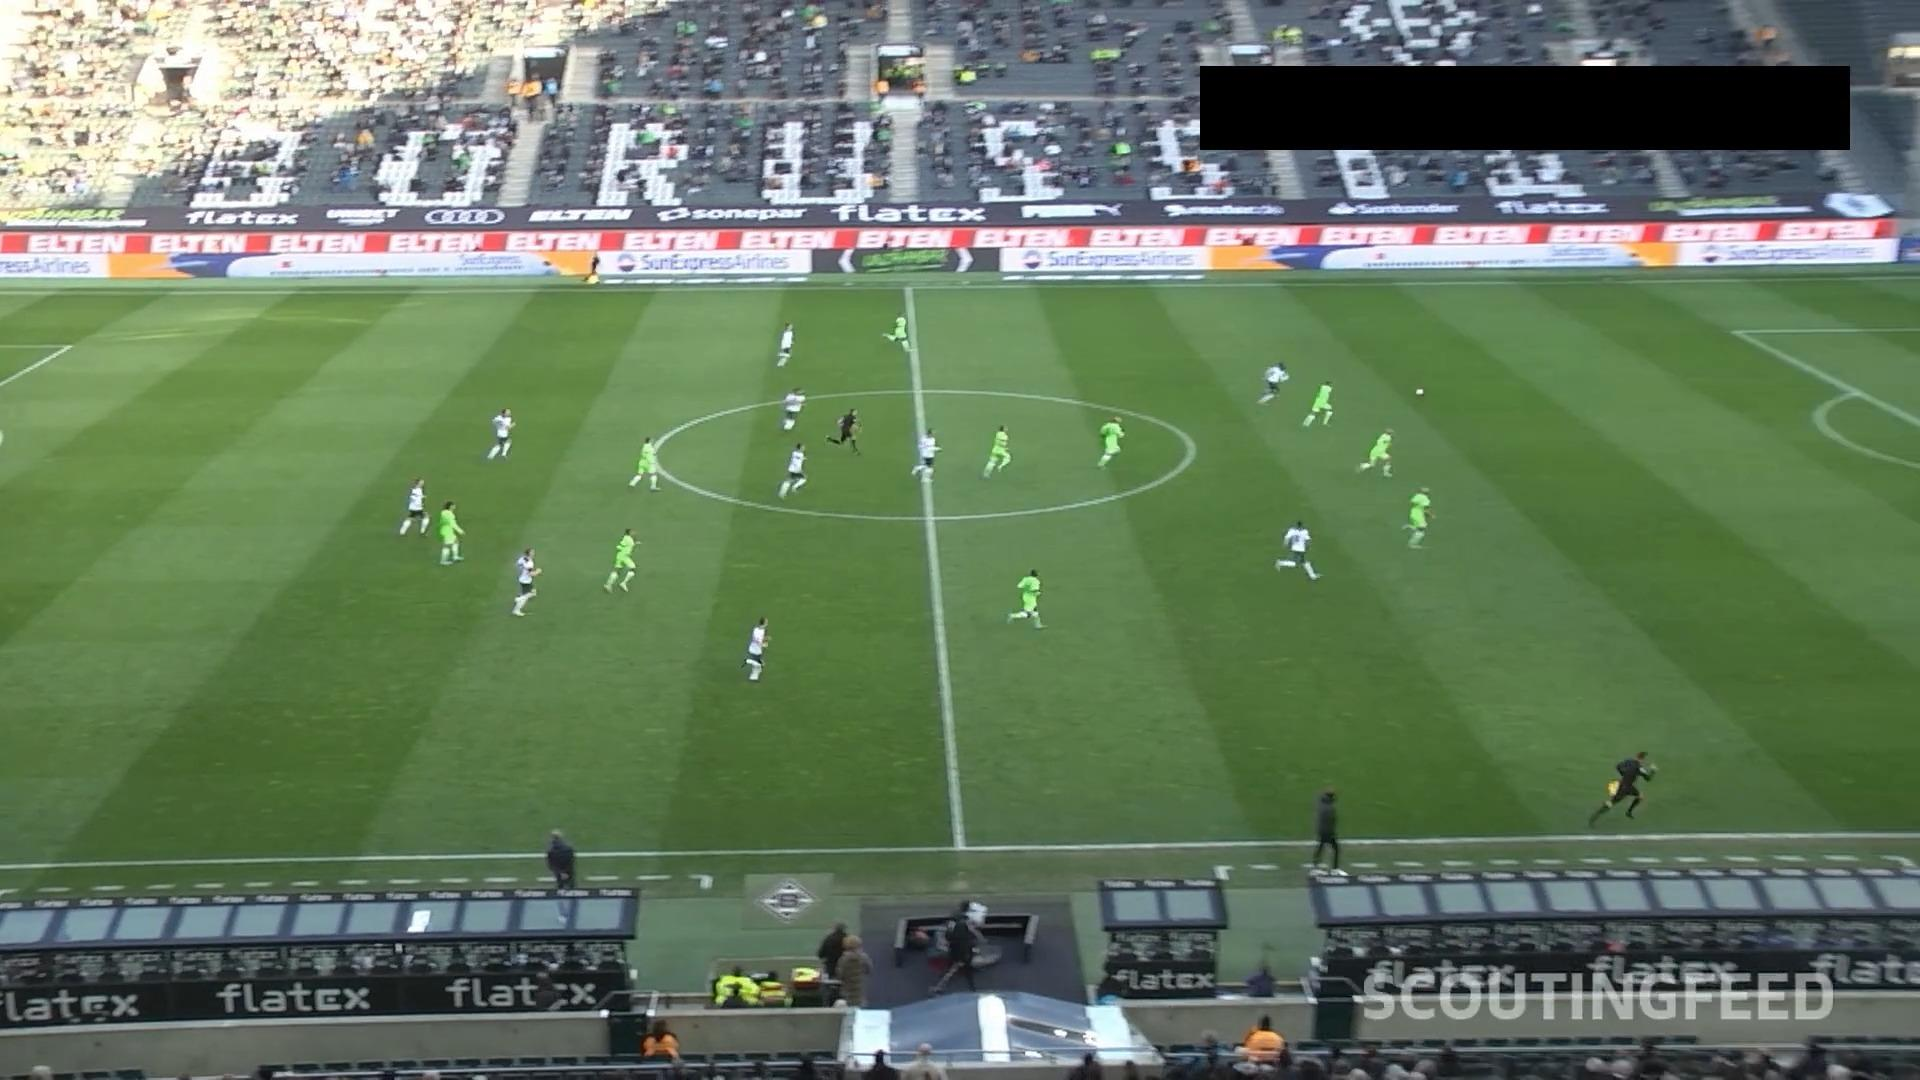ball: (1414, 387, 1423, 396)
coach: (1311, 788, 1341, 871), (545, 827, 576, 889)
player: (1274, 518, 1319, 580), (602, 527, 639, 593), (1006, 568, 1044, 629), (510, 546, 541, 615), (1401, 484, 1434, 547), (397, 476, 430, 536), (435, 500, 465, 564), (627, 435, 661, 491), (741, 616, 770, 681), (1358, 427, 1394, 477), (777, 441, 807, 498), (981, 424, 1011, 478), (1301, 380, 1334, 427), (1095, 415, 1124, 468), (911, 427, 939, 481), (486, 406, 514, 459), (1256, 361, 1289, 404), (780, 385, 805, 430), (883, 313, 911, 352), (775, 321, 794, 367)
referee: (929, 898, 987, 995), (1587, 749, 1657, 826), (816, 920, 849, 1006), (826, 407, 861, 454), (582, 252, 600, 283)
